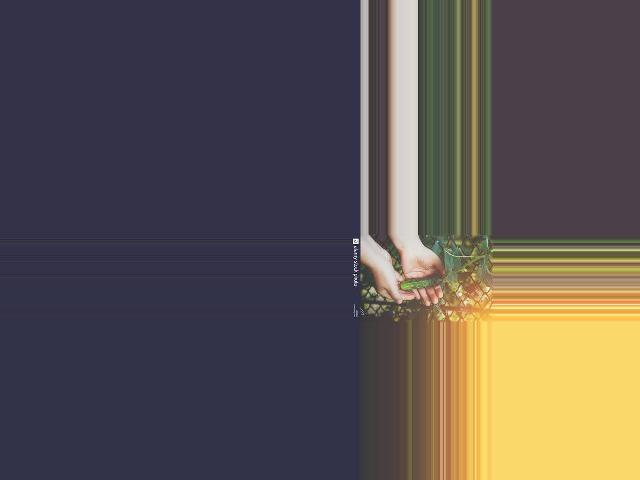cucumber: (399, 274, 443, 290)
